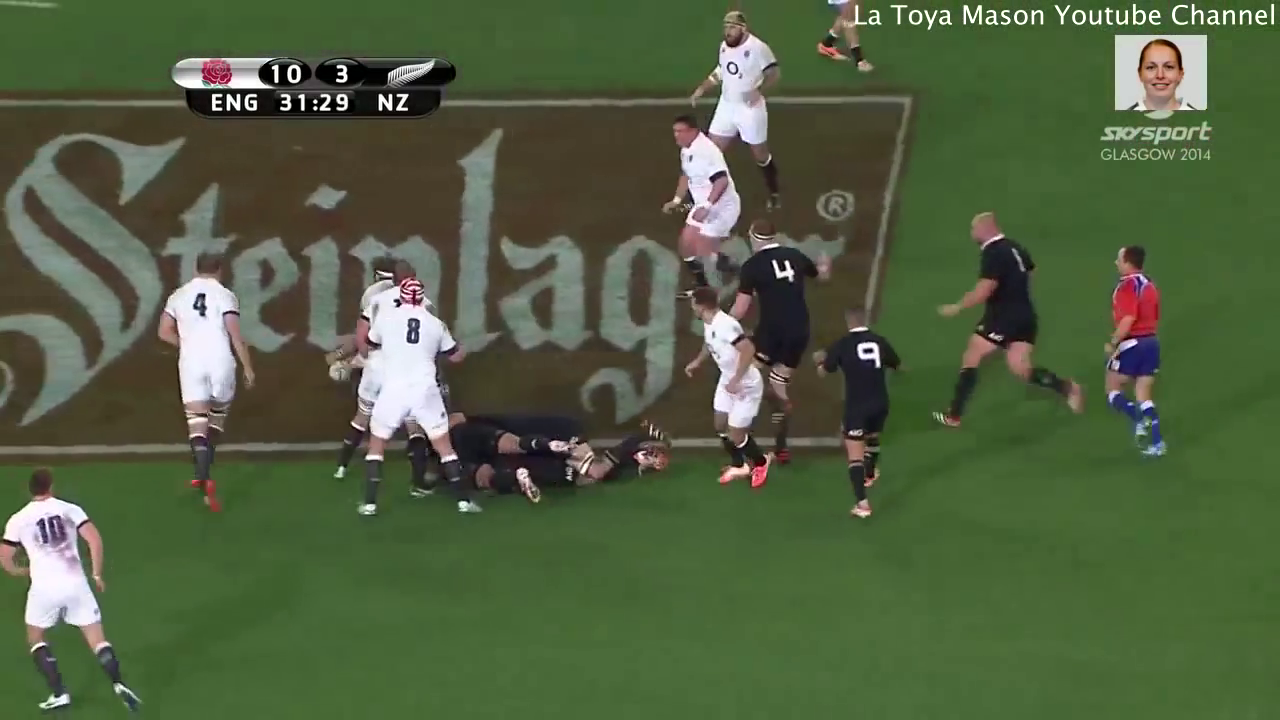ball: (321, 350, 371, 392)
player: (915, 198, 1089, 445), (1, 457, 151, 720), (351, 272, 488, 528), (147, 241, 262, 528), (658, 272, 787, 505), (795, 300, 926, 529), (719, 210, 822, 472), (676, 3, 797, 216), (1084, 239, 1179, 472), (652, 99, 744, 303), (323, 244, 397, 367), (804, 1, 880, 76)
ruck: (374, 350, 666, 513)
